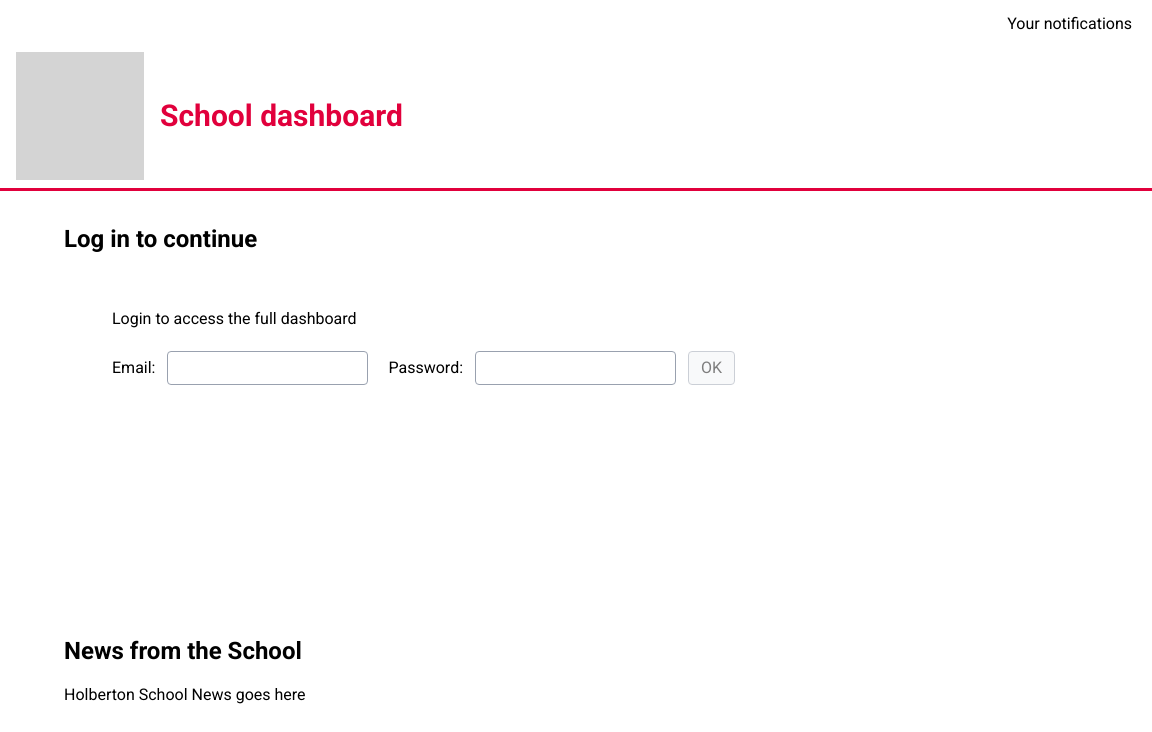
Test: App component › renders CourseList after login
The width and height of the screenshot is (1152, 732).
Type "user@example.com" into the field labelled "Email:" at (268, 368), box [168, 351, 368, 385]
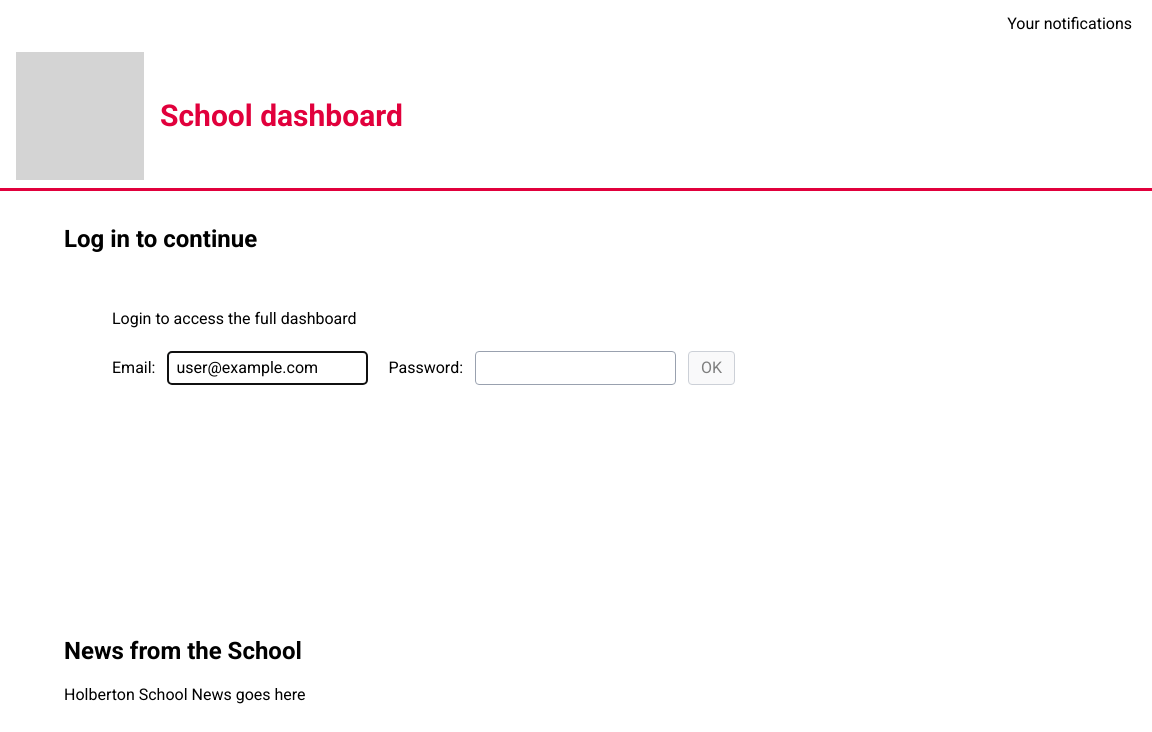
Type "password123" into the password field labelled "Password:" at (576, 368), box [475, 351, 676, 385]
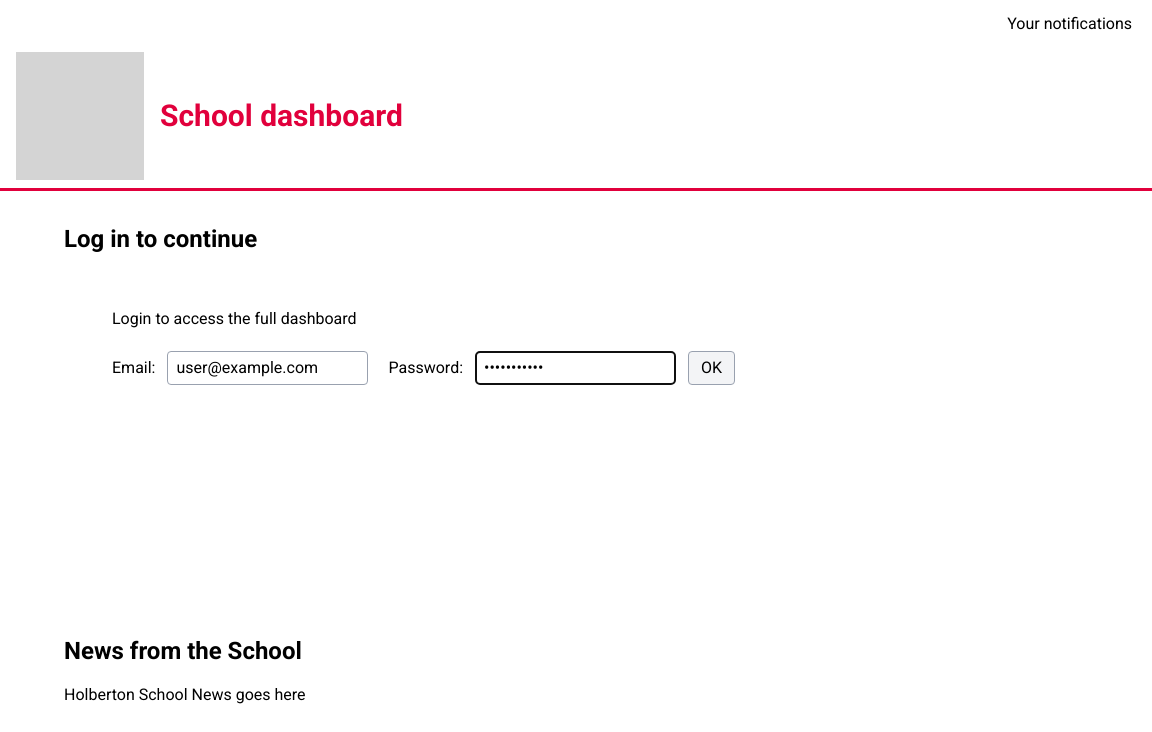
Check: the button showing "OK" is enabled
Click the button showing "OK" at (712, 368), box [688, 351, 735, 385]
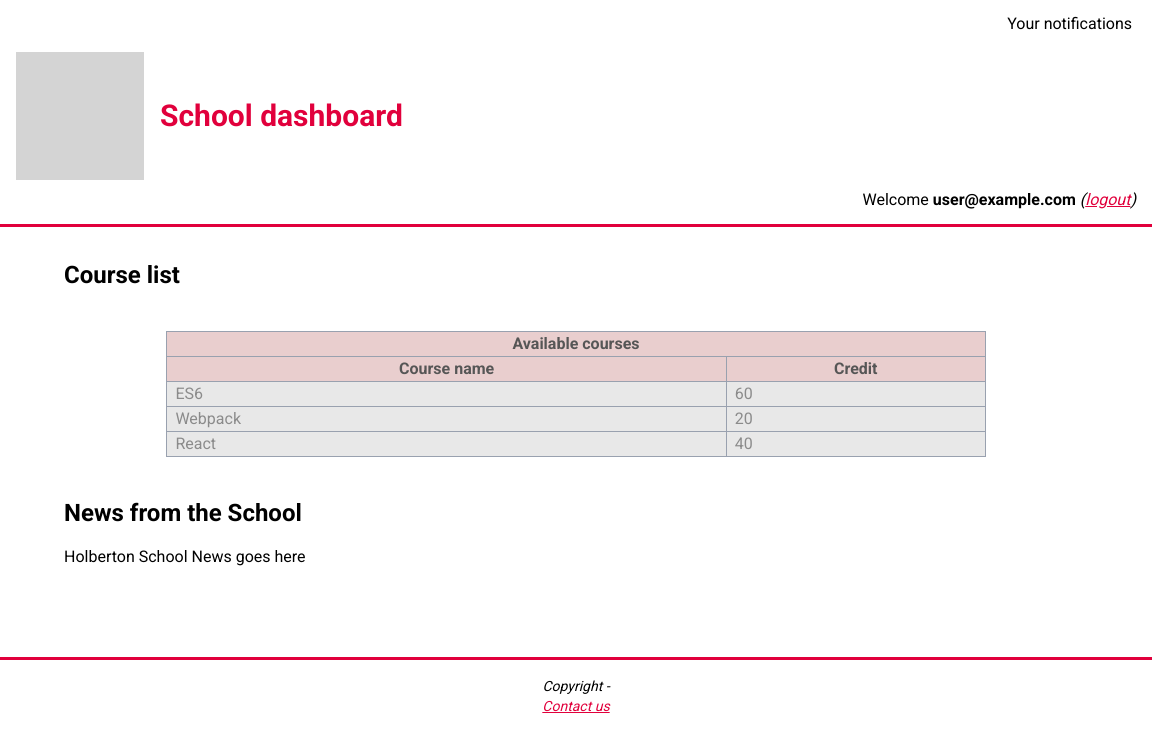
Check: the table is shown, box [166, 331, 986, 457]
Check: the column heading "Available courses" is shown, box [167, 332, 985, 356]
Check: the text "Login to access the full dashboard" is gone
